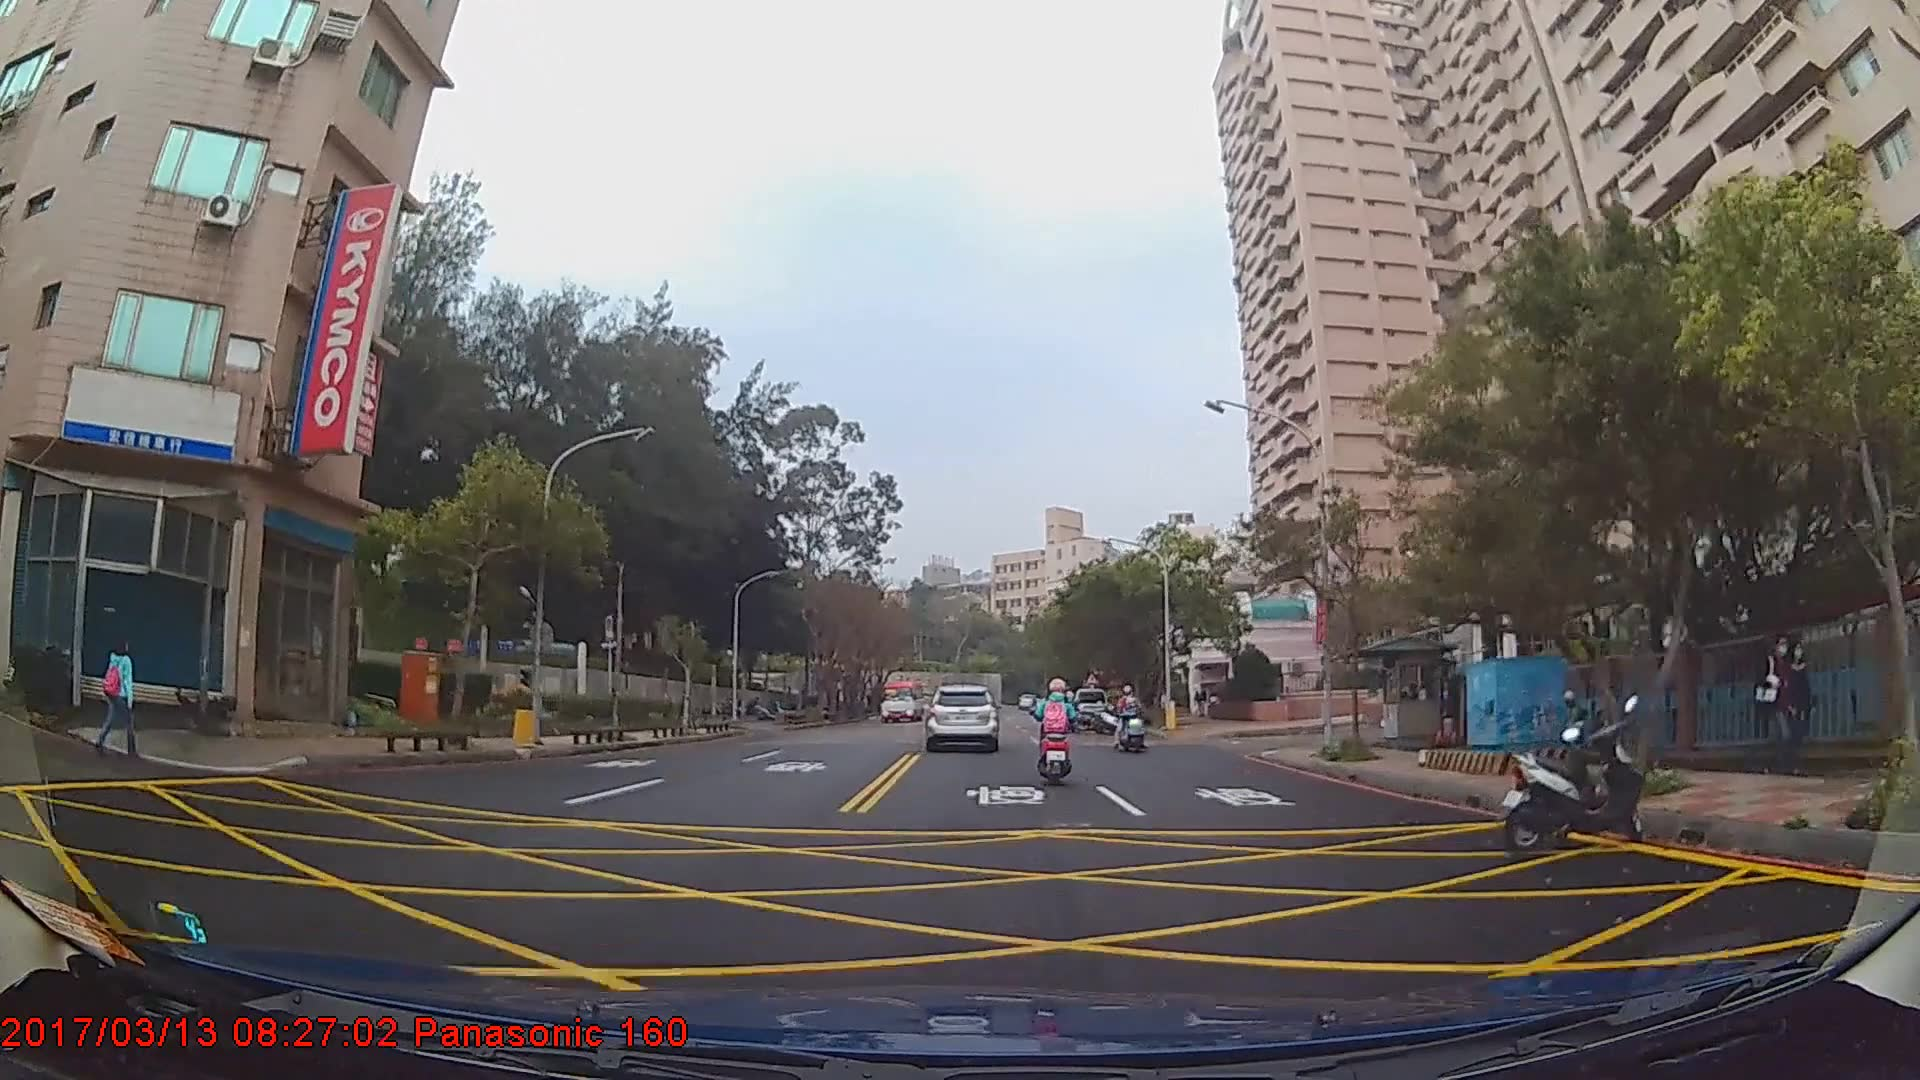pedestrian: (1756, 636, 1800, 776), (95, 633, 141, 759), (1774, 642, 1816, 774)
rider: (1032, 677, 1076, 790), (1114, 682, 1149, 747)
vehicle: (923, 681, 998, 746), (879, 676, 926, 722)
